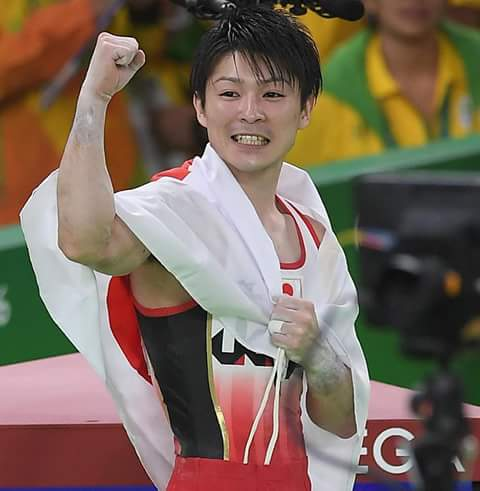face: (193, 51, 316, 168)
hand: (267, 294, 337, 370), (80, 30, 145, 97)
